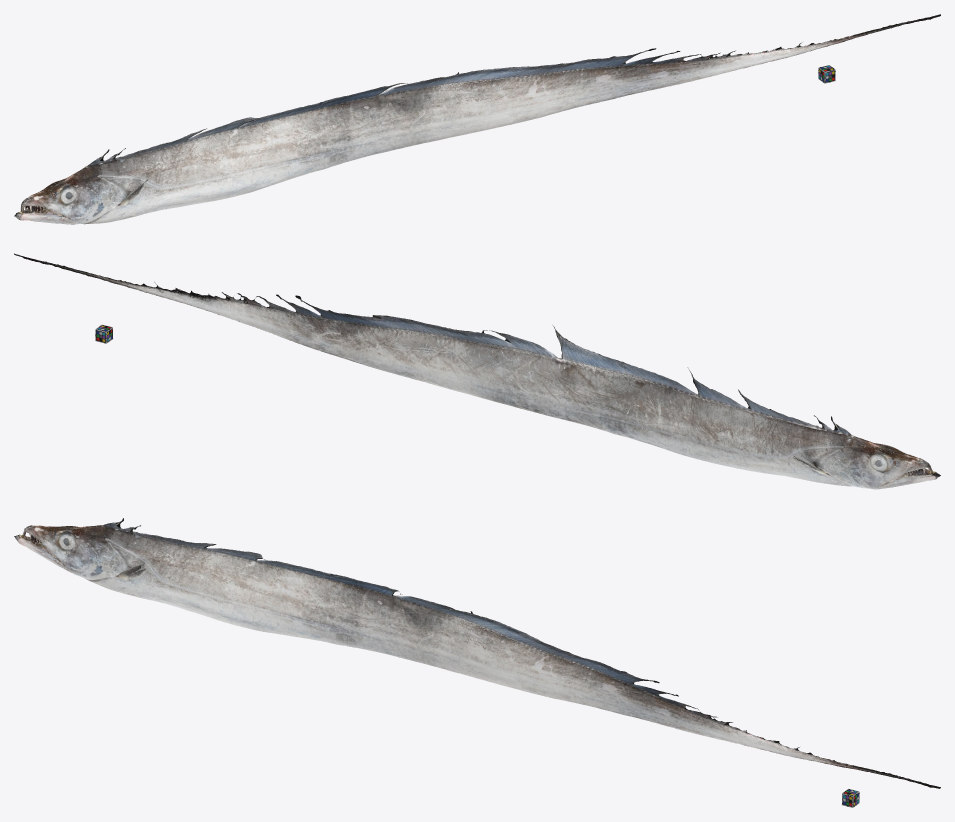
Rendered from scan_cutlass.glb.
3 renders of one model, top to bottom at view 1: azimuth 30°, elevation 25°; view 2: azimuth 150°, elevation 25°; view 3: azimuth 330°, elevation 25°, orthographic. The views are drawn at different scales.
Visible parts, largest first — view 1: Object_14, Object_6; view 2: Object_6, Object_14; view 3: Object_14, Object_6.
Boxes of the visible parts, bbox=[...] form: Object_14: bbox=[16, 14, 940, 224]; Object_6: bbox=[14, 14, 938, 224]; Object_6: bbox=[14, 254, 940, 489]; Object_14: bbox=[14, 253, 939, 489]; Object_14: bbox=[20, 518, 940, 788]; Object_6: bbox=[14, 518, 940, 788].
Size of the model in its own units: 37.18 by 4.28 by 2.11.
3 materials, 3 textured.
